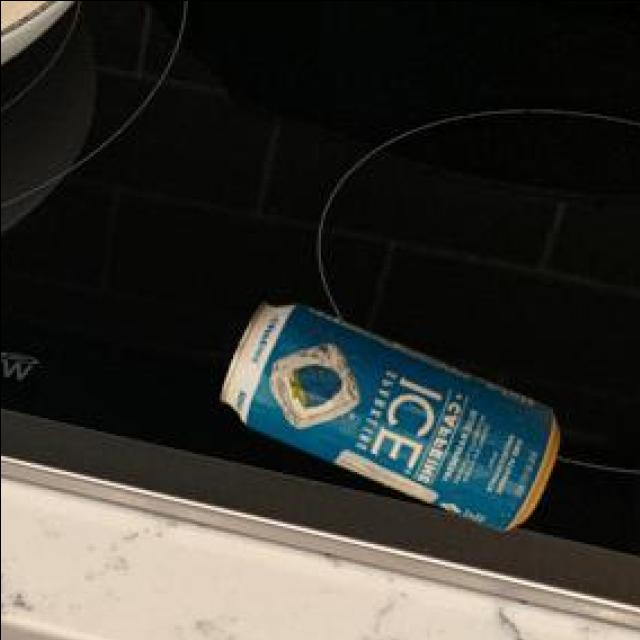logam: (224, 299, 562, 526)
